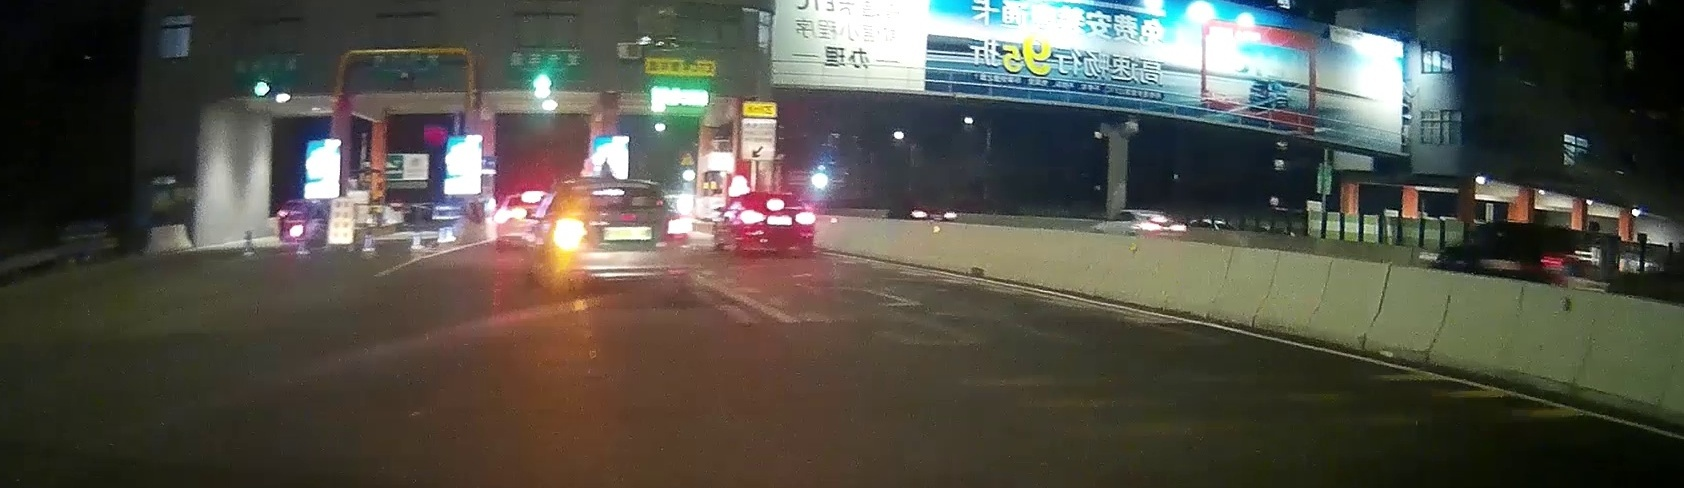L_light: (552, 219, 587, 249), (739, 210, 765, 223)
R_light: (660, 215, 689, 243), (794, 211, 815, 225)
T_light: (598, 187, 626, 196), (766, 199, 786, 209)
night-brake: (735, 192, 816, 258)
night-left: (543, 178, 693, 292)
